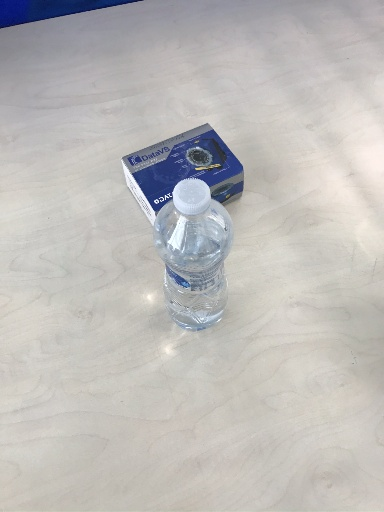Acqua: (155, 179, 235, 332)
Box: (122, 120, 244, 220)
